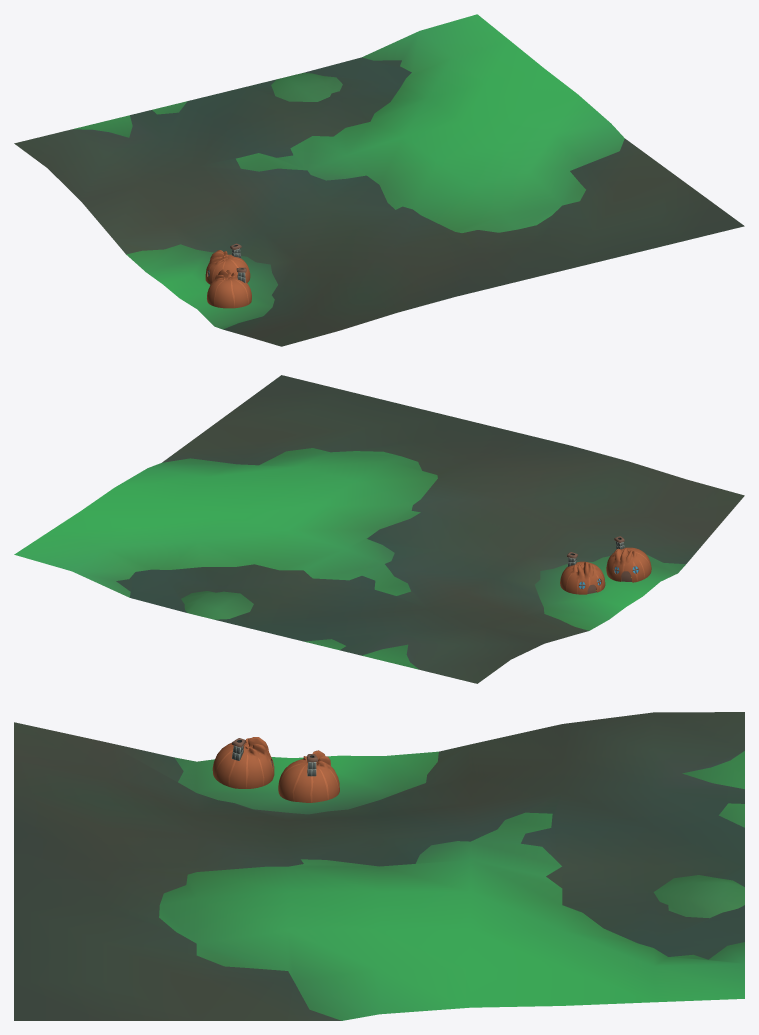
File: LevelD3.fbx
The picture shows the model from 3 angles, top to bottom: view 1: azimuth 30°, elevation 25°; view 2: azimuth 150°, elevation 25°; view 3: azimuth 270°, elevation 25°; orthographic projection. The views are drawn at different scales.
Parts seen in each view (by area): view 1: GroundD3, OniHouse.003, OniHouse.001; view 2: GroundD3, OniHouse.003, OniHouse.001; view 3: GroundD3, OniHouse.003, OniHouse.001.
Part boxes in pixels (<box>): GroundD3: <box>14,14,744,346</box>; OniHouse.003: <box>207,267,251,308</box>; OniHouse.001: <box>205,243,250,284</box>; GroundD3: <box>14,375,744,683</box>; OniHouse.003: <box>606,536,651,582</box>; OniHouse.001: <box>560,552,605,594</box>; GroundD3: <box>14,712,744,1020</box>; OniHouse.003: <box>212,737,274,788</box>; OniHouse.001: <box>278,750,339,802</box>.
Bounding box in the file's own units: 9057 × 981 × 9057.
